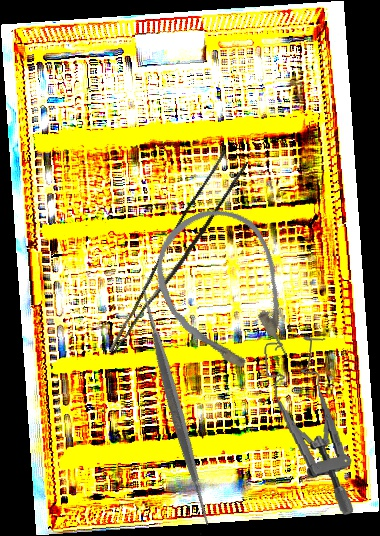Cannula: (137, 192, 315, 395)
Spatula Surgical: (45, 276, 306, 536)
Speculum: (262, 331, 357, 522)
Tissue Forceps: (108, 146, 249, 367)
